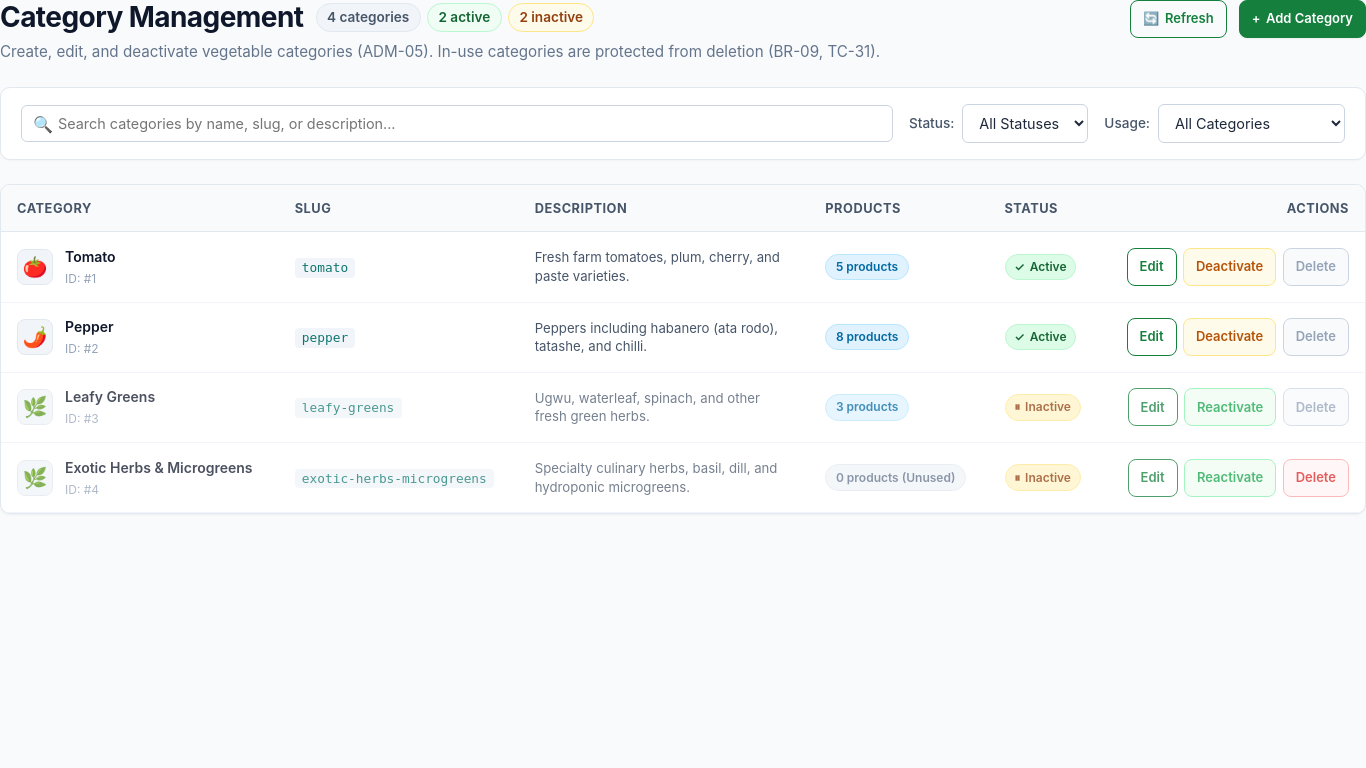
Test: FE-100 / ADM-05: Admin Categories Management Page › 3. Create Category (ADM-05) › successfully creates new category with name, auto-slug, and description
Click the button with test id "add-category-btn". click: (1302, 19)
box: [1239,0,1365,38]
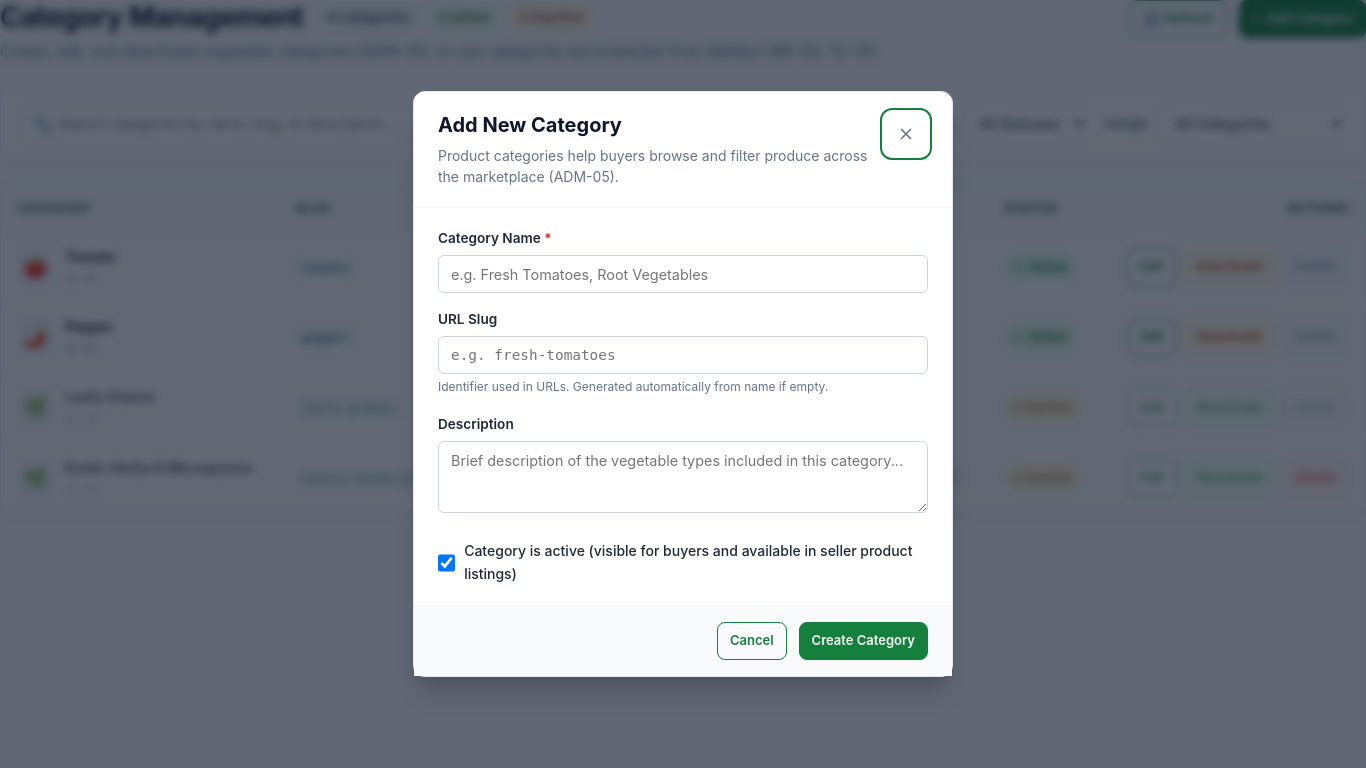
Type "Carrot & Radish" into the field with test id "category-name-input". click: (683, 274)
box: [438,255,928,293]
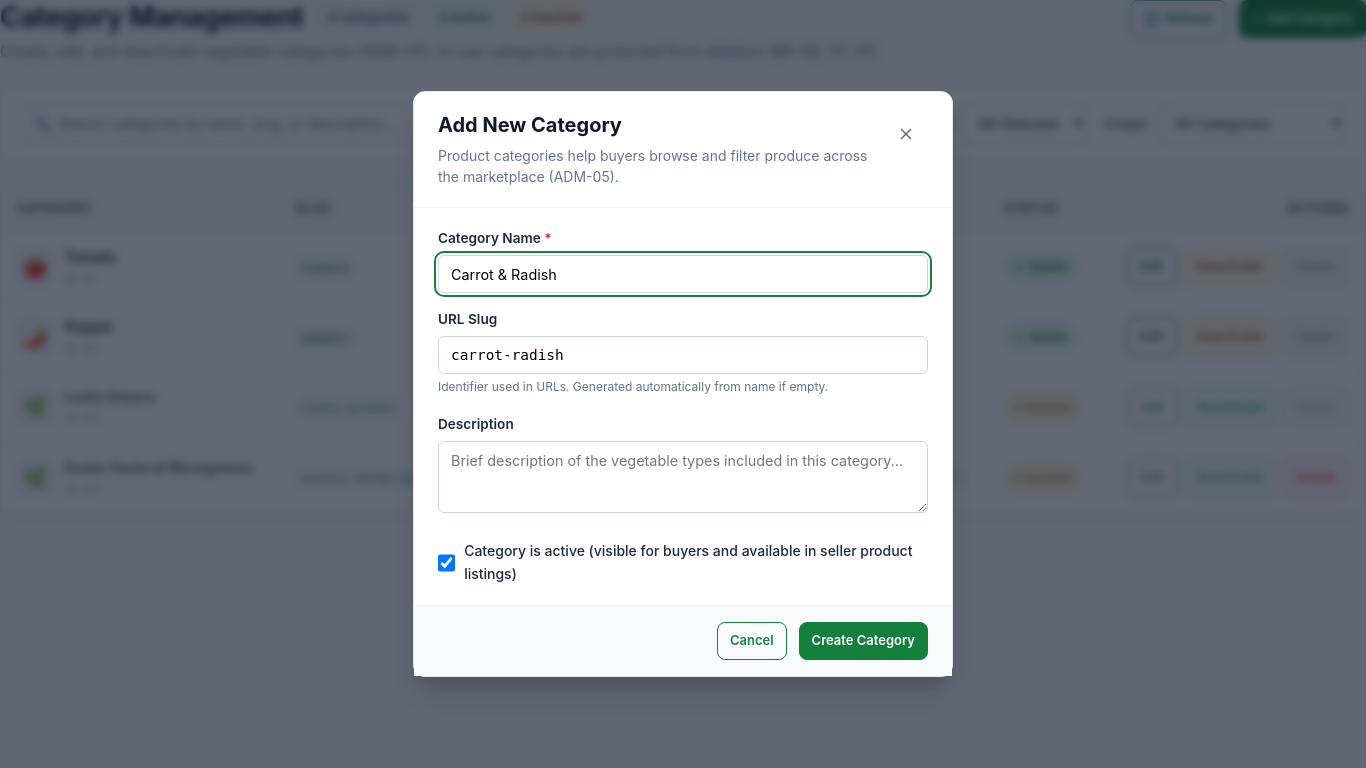
Type "Crunchy roots from Plateau State." into the text box with test id "category-description-input". click: (683, 477)
box: [438,441,928,513]
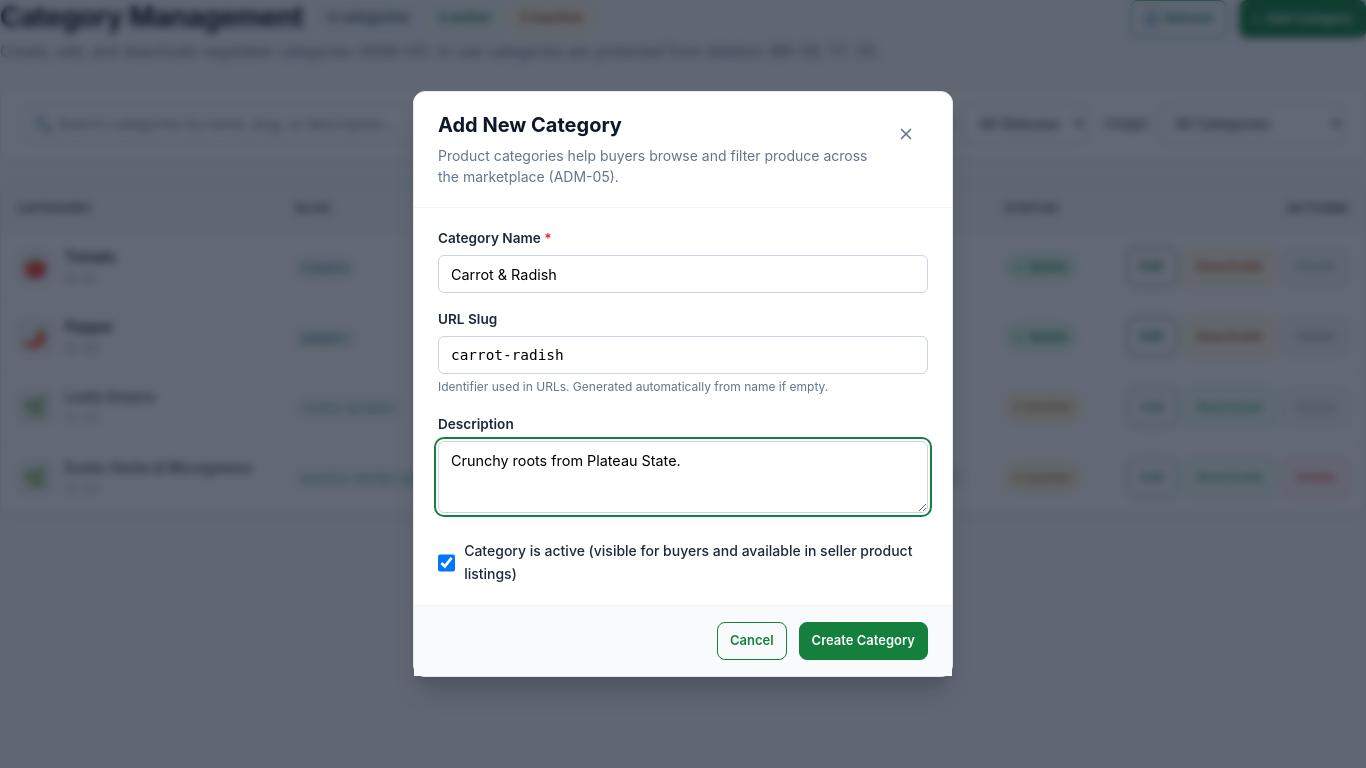
Click the button with test id "category-modal-save-btn". click: (863, 641)
box: [799,622,928,660]
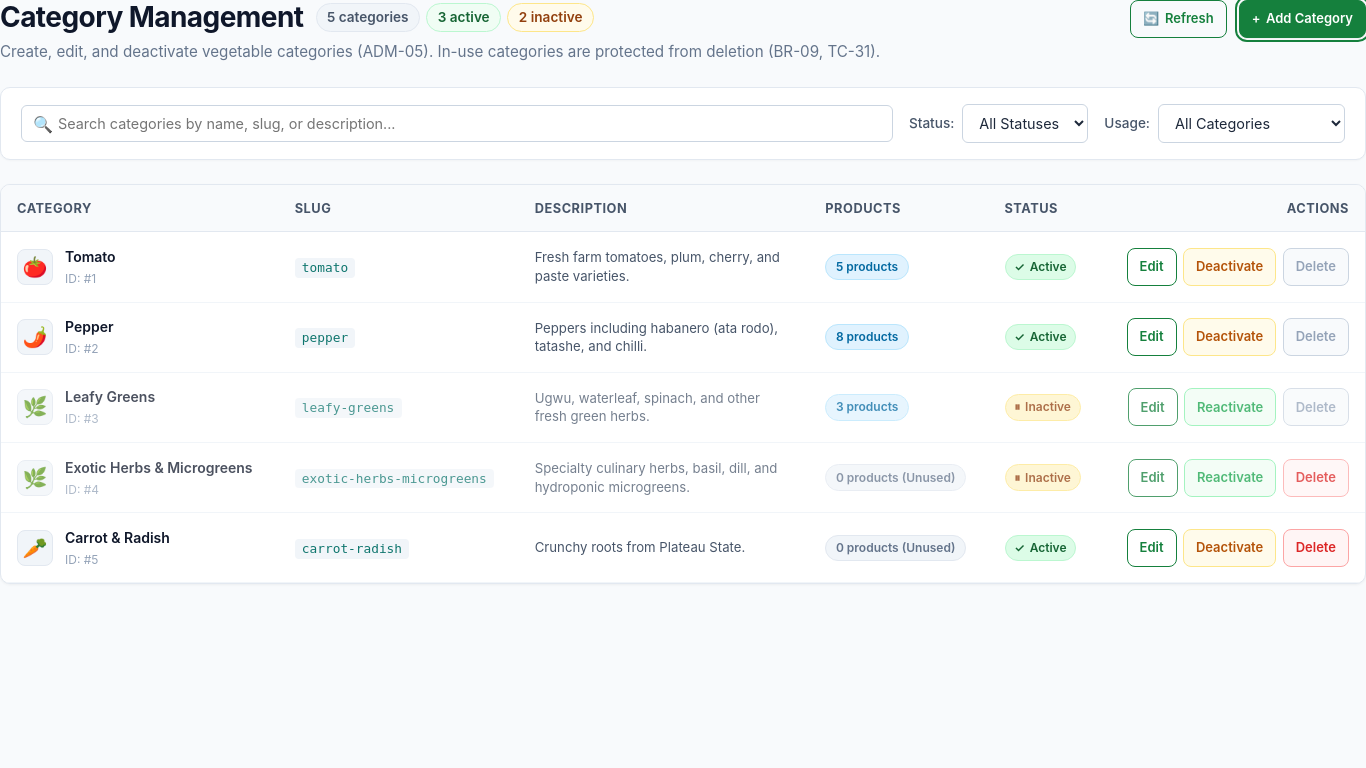
Now the dialog with test id "category-modal" is gone
